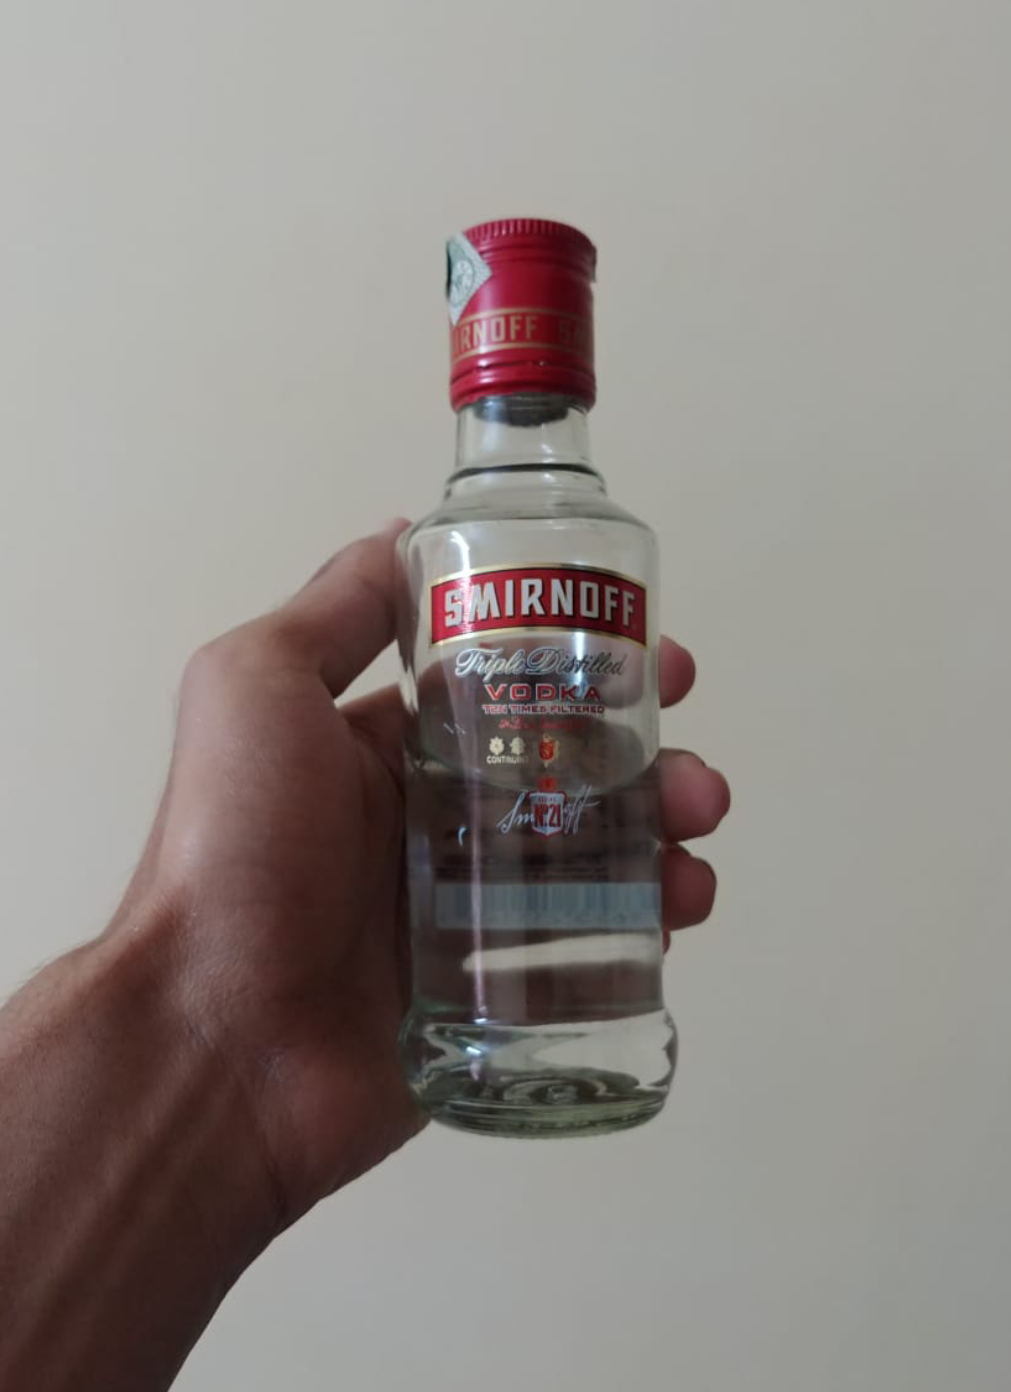glass_bottle: (367, 201, 694, 1165)
